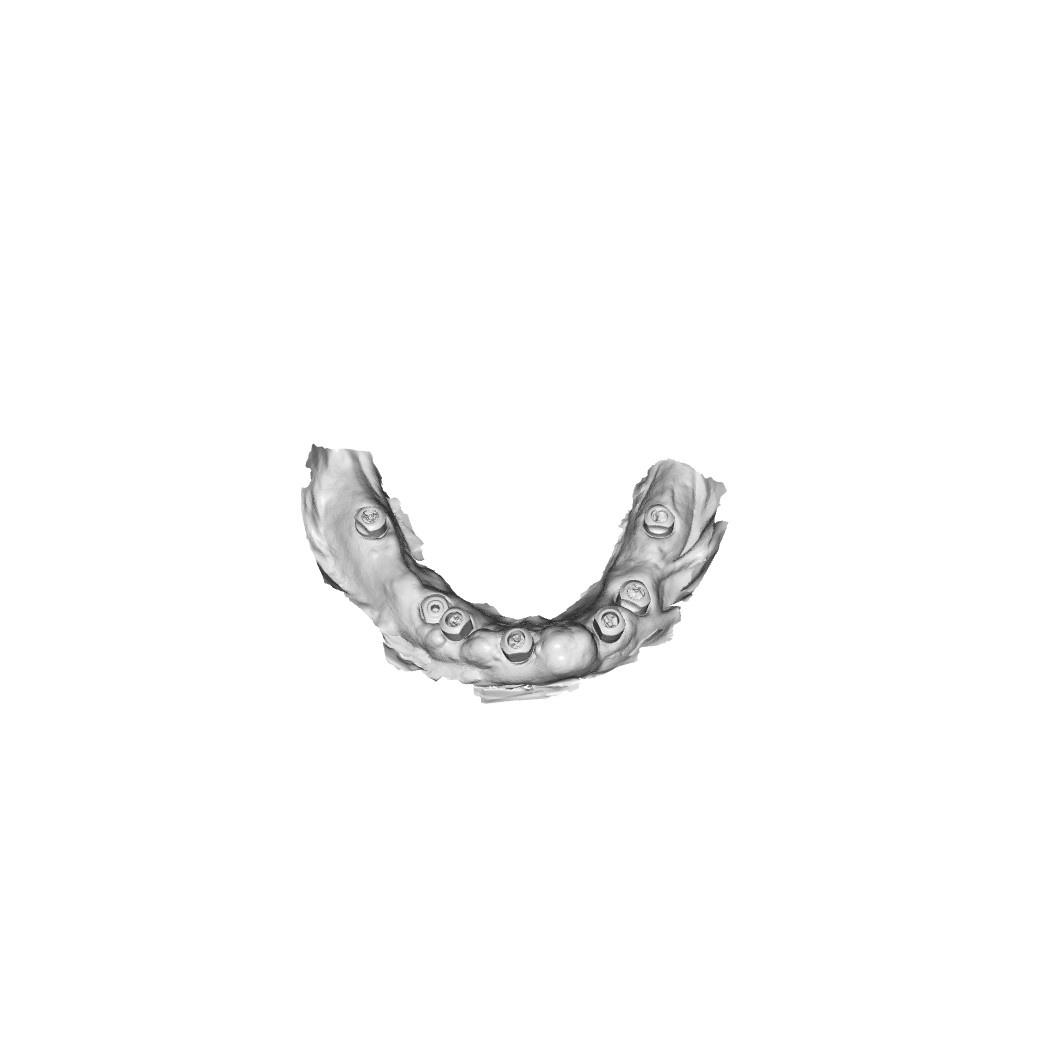implant: (501, 624, 535, 664), (352, 504, 390, 537), (595, 607, 626, 645), (617, 581, 651, 615), (643, 503, 675, 538), (416, 594, 449, 624), (441, 609, 471, 636)
